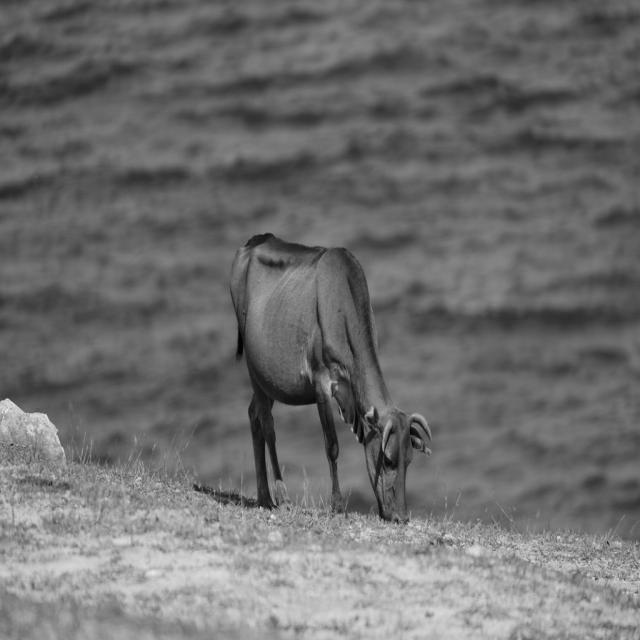cow: (230, 234, 431, 522)
